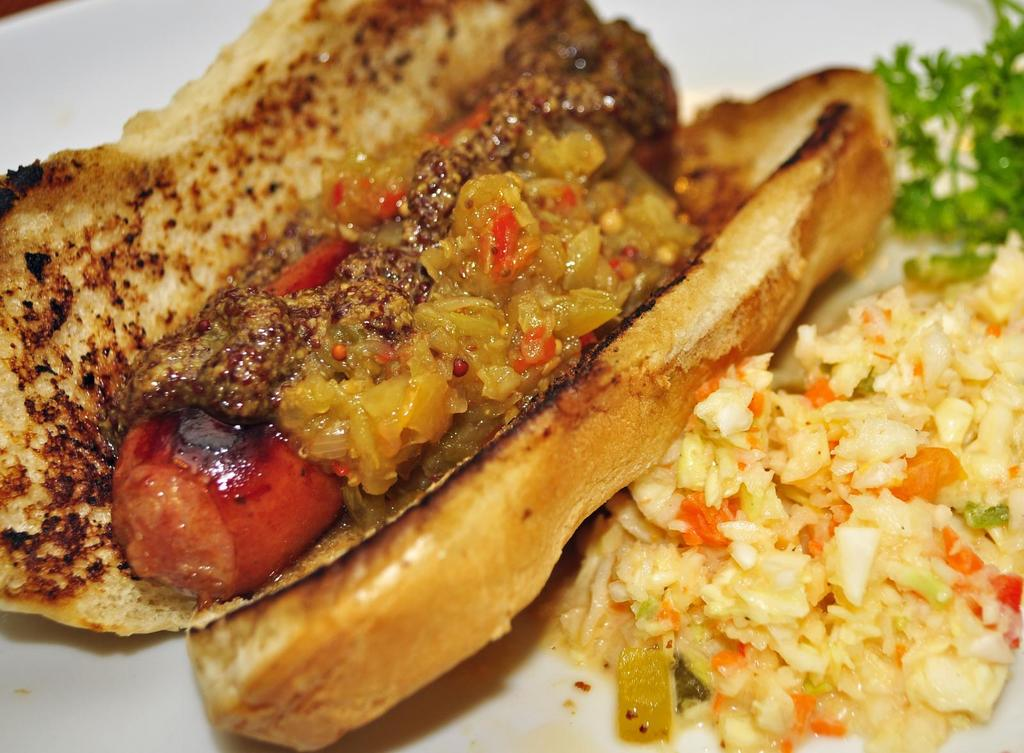hot_dog: (15, 58, 939, 679)
